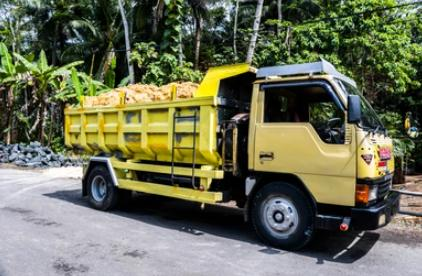vehicle: (64, 57, 419, 250)
